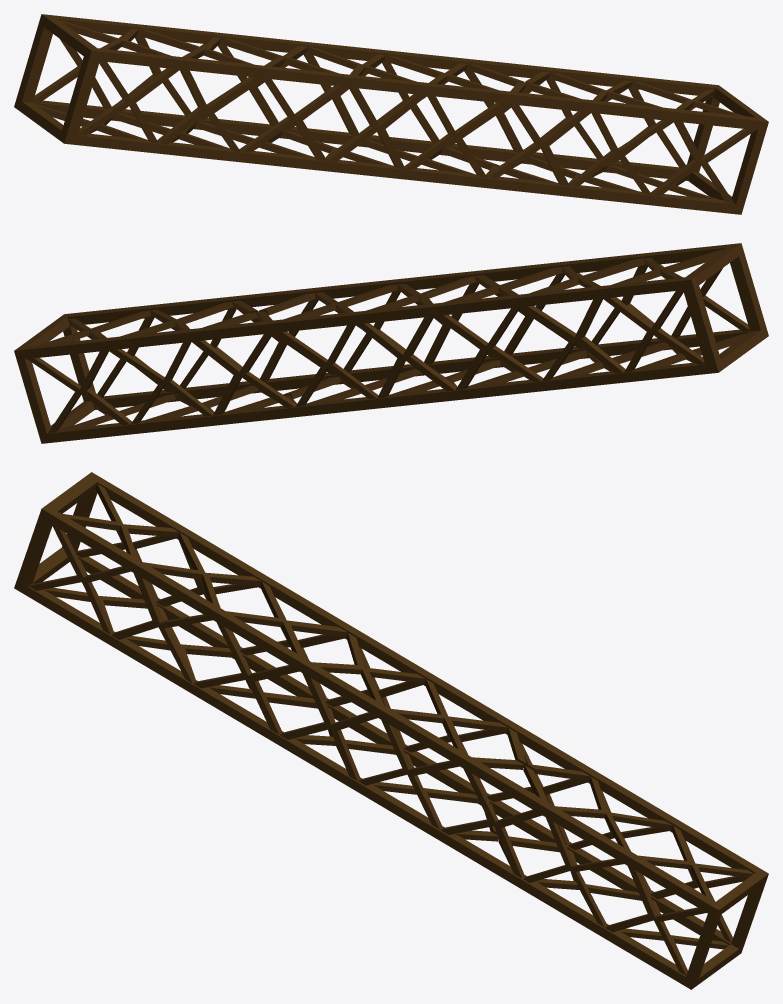
File: Heup Links Achter balk achter_boven.fbx
The picture shows the model from 3 angles, top to bottom: view 1: azimuth 30°, elevation 25°; view 2: azimuth 150°, elevation 25°; view 3: azimuth 330°, elevation 25°; orthographic projection.
Parts seen in each view (by area): view 1: Metalen paal.004; view 2: Metalen paal.004; view 3: Metalen paal.004.
Part boxes in pixels (bbox=[...]): Metalen paal.004: bbox=[14, 14, 768, 214]; Metalen paal.004: bbox=[14, 243, 768, 443]; Metalen paal.004: bbox=[14, 472, 768, 989].
Bounding box in the file's own units: 756 × 331 × 93.22.
